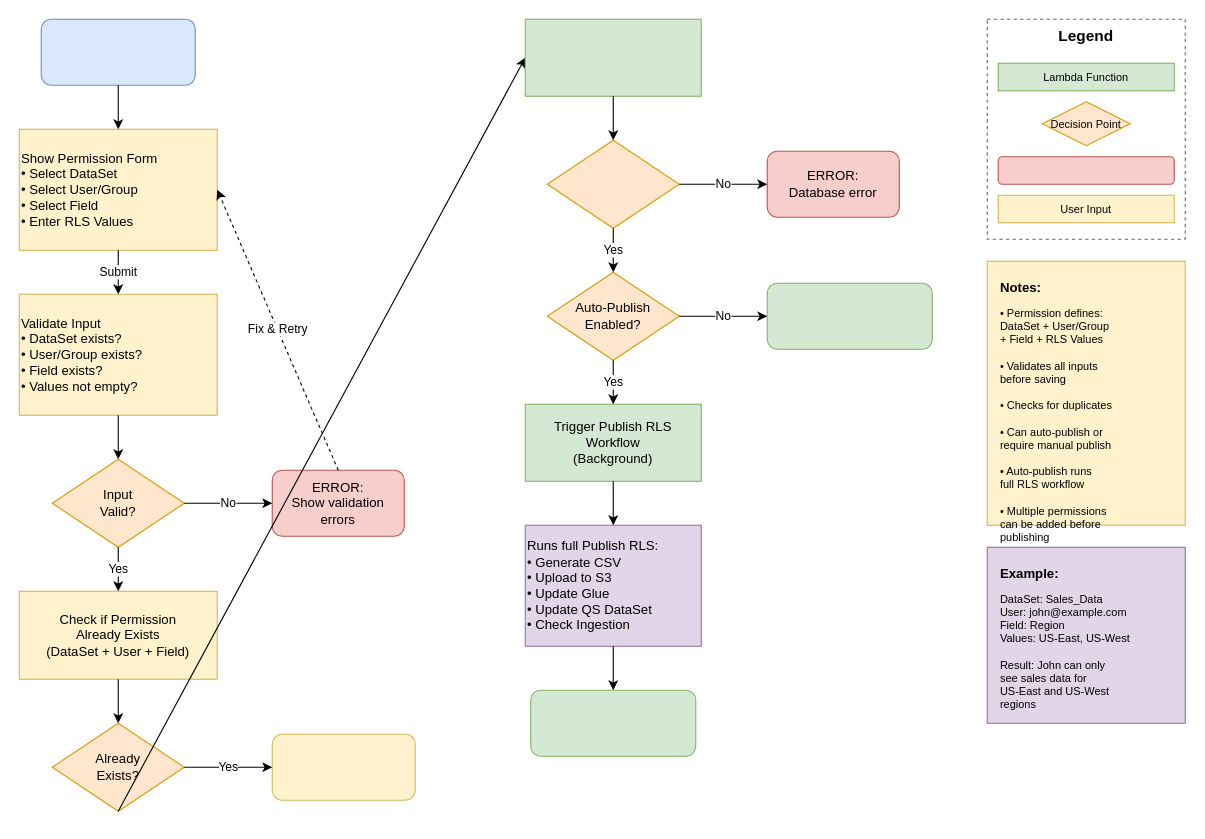
Some shapes in this 1205 by 839 pixel diagram are drawn without their labels. The centre of each missing label's shape, as x and y in pixels:
Error State: pixel 1085 170
Save to DynamoDB Insert new Permission record: pixel 612 57
Saved?: pixel 612 183
Show Success 'Permission added Click Publish to apply': pixel 849 315
SUCCESS! Permission Added & Published: pixel 613 722
User clicks 'Add Permission': pixel 117 51
WARNING: Permission exists Use Edit instead: pixel 343 766
